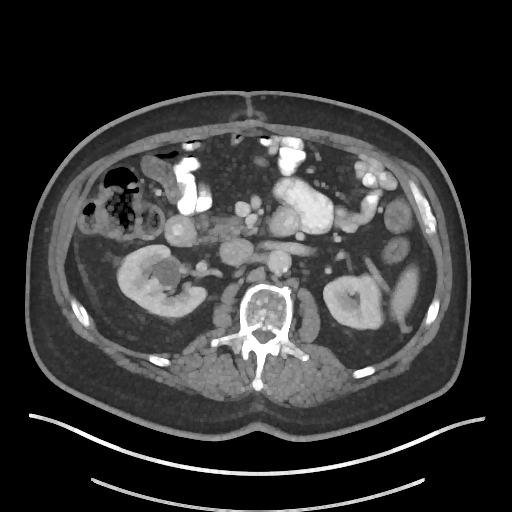Lesion: (149, 251, 184, 293)
